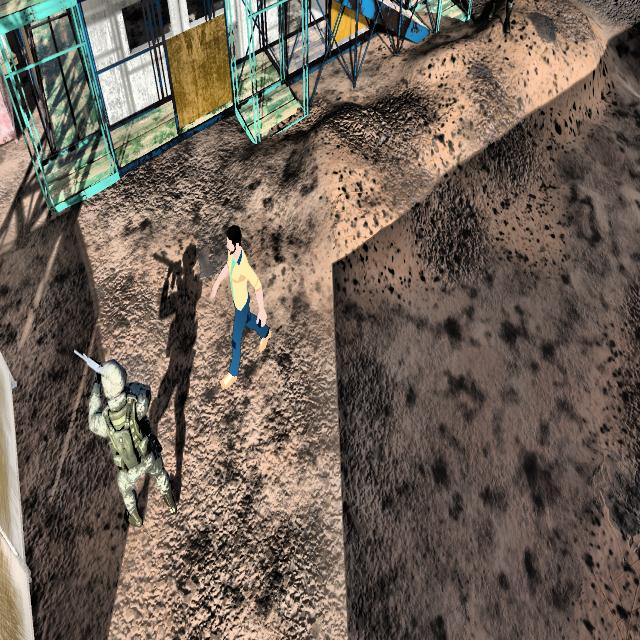bad: (68, 339, 180, 541)
good: (196, 203, 280, 401)
